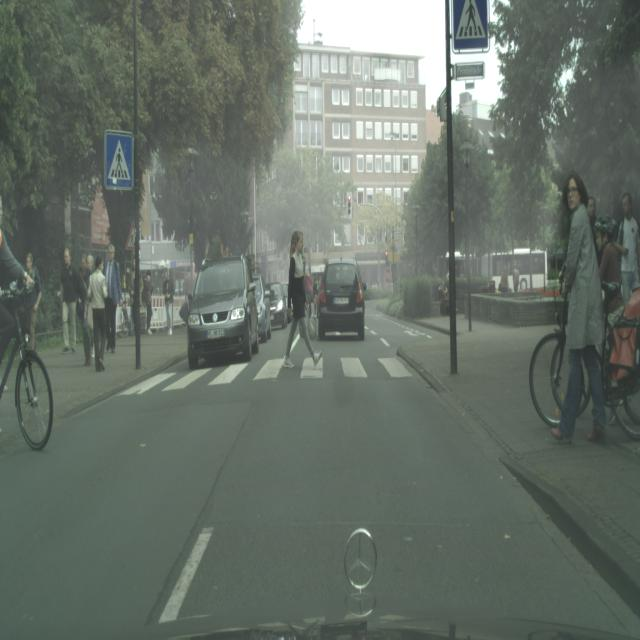car: (529, 291, 640, 435), (0, 289, 54, 451)
person: (552, 172, 607, 446), (0, 199, 33, 399), (282, 229, 319, 369), (617, 192, 640, 306), (87, 254, 108, 371), (60, 248, 79, 354), (104, 243, 122, 354), (77, 253, 93, 368), (24, 252, 42, 352), (163, 269, 174, 336), (142, 271, 153, 334), (512, 265, 519, 292)
truck: (187, 255, 260, 369), (316, 257, 365, 341), (251, 274, 271, 344), (267, 282, 289, 329)
